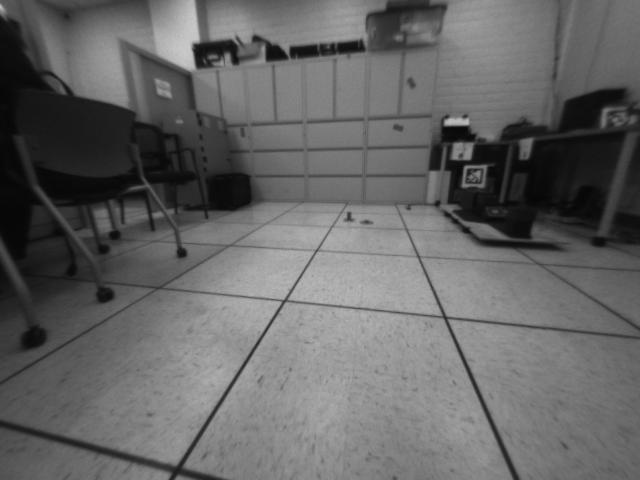X: (342, 209, 356, 223)
